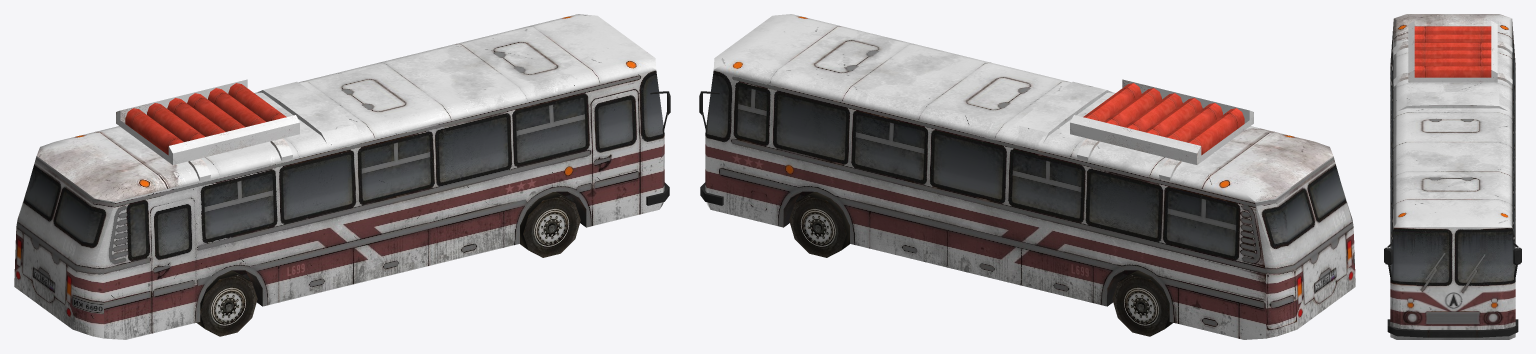
The model's file is laz699.obj.
3 views of the same model, side by side, from view 1: azimuth 30°, elevation 25°; view 2: azimuth 150°, elevation 25°; view 3: azimuth 270°, elevation 25° (orthographic). The views are drawn at different scales.
Visible parts, largest first — view 1: laz699_laz699; view 2: laz699_laz699; view 3: laz699_laz699.
Boxes of the visible parts, box(x1,y1,x2,y2) form: laz699_laz699: box(14, 14, 670, 339); laz699_laz699: box(699, 14, 1355, 339); laz699_laz699: box(1384, 14, 1521, 339).
Size of the model in its own units: 10.2 by 3.12 by 2.59.
1 material, 1 textured.
